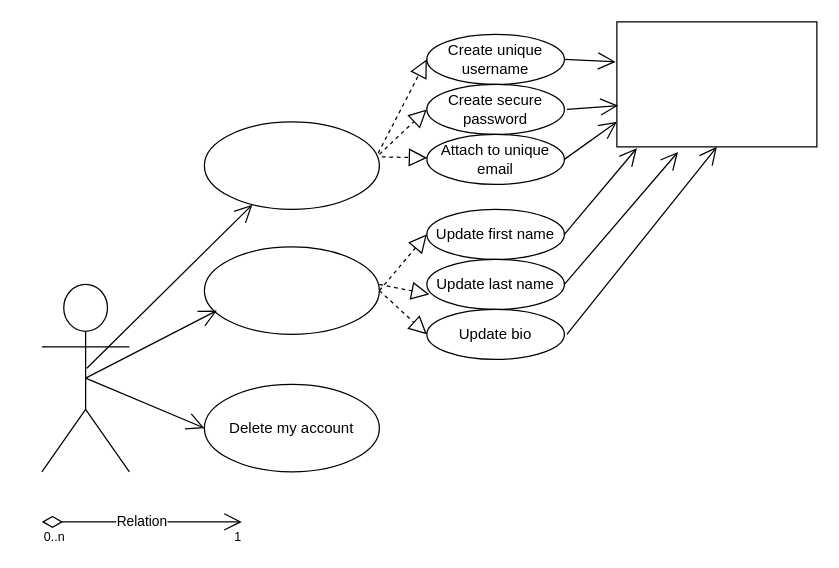
Image size: 839x568. Some labels were removed from this diagram. Here are the shapes that lost their labels. From the top down, the box of each, then its label:
(616, 21, 817, 147): User Database
(203, 121, 379, 209): Create an account
(203, 246, 379, 334): Update information on my account
(41, 283, 129, 472): Actor
